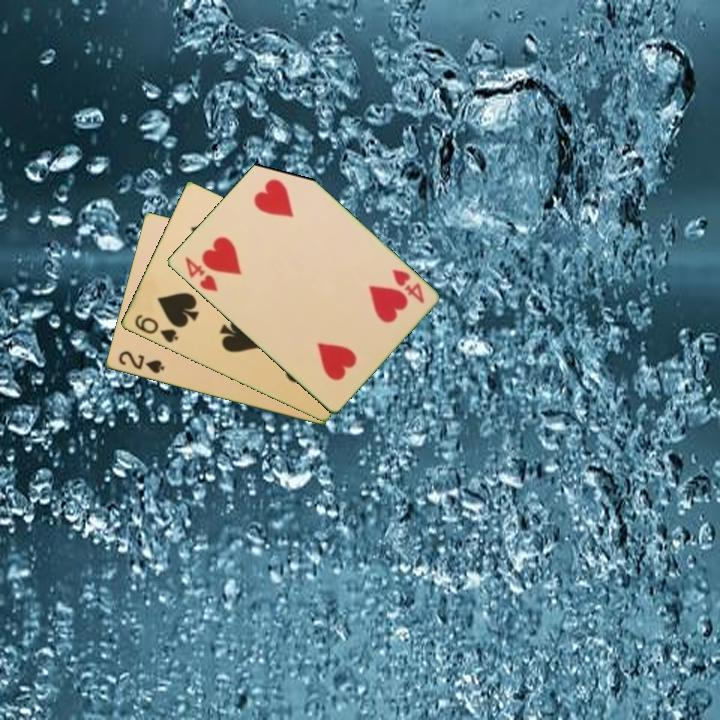2s: (114, 347, 167, 377)
4h: (181, 253, 220, 295), (388, 266, 427, 307)
6s: (130, 311, 181, 346)
